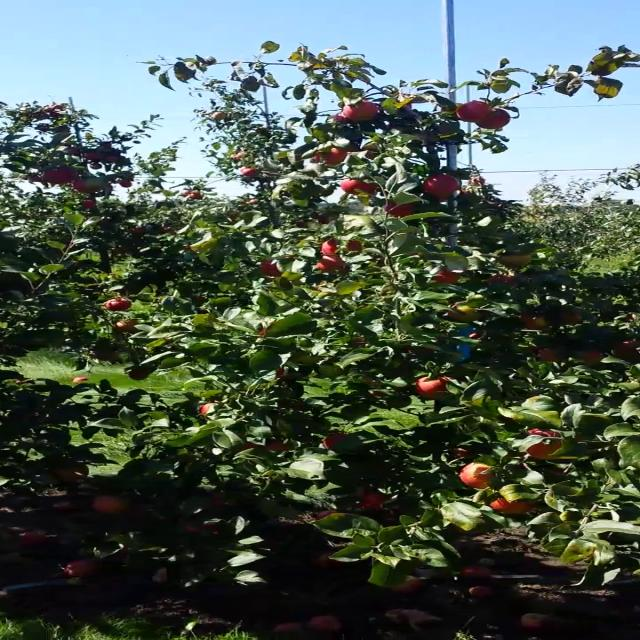apple: (526, 426, 564, 460), (424, 175, 460, 201), (417, 376, 455, 398), (460, 464, 492, 490), (344, 100, 380, 122), (455, 101, 490, 123), (54, 465, 92, 485), (475, 108, 509, 130), (488, 497, 530, 513), (94, 494, 127, 514), (322, 240, 362, 256), (448, 304, 480, 324), (314, 147, 346, 165), (44, 168, 76, 186), (318, 256, 348, 274), (239, 441, 292, 451), (340, 180, 376, 194), (517, 314, 551, 328), (322, 432, 348, 450), (609, 340, 634, 358), (532, 348, 560, 364), (360, 494, 388, 509), (428, 270, 456, 284), (498, 252, 530, 264), (258, 262, 284, 276), (105, 298, 130, 312), (384, 204, 413, 216), (552, 312, 580, 324), (334, 112, 360, 124), (450, 446, 474, 459), (486, 273, 516, 283), (375, 150, 391, 166), (199, 402, 215, 417), (318, 510, 342, 520), (72, 179, 87, 194), (128, 372, 149, 382), (114, 321, 135, 331), (358, 148, 375, 160), (407, 232, 430, 240), (584, 352, 601, 362)
